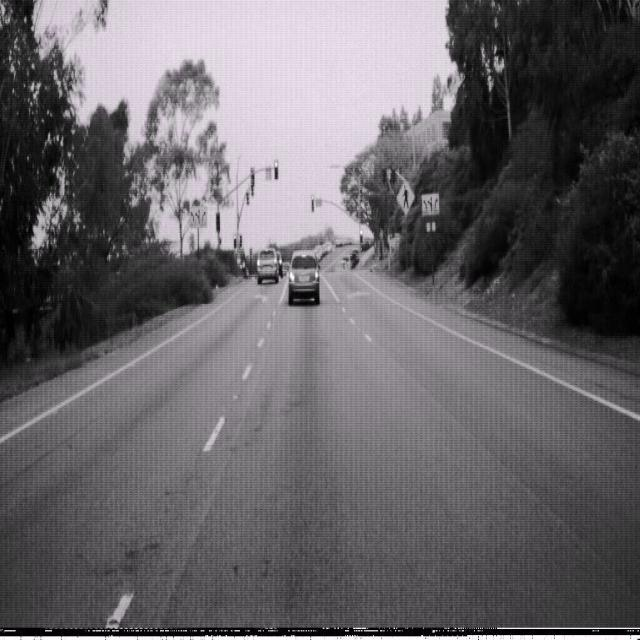pedestrianCrossing: (396, 177, 415, 216)
